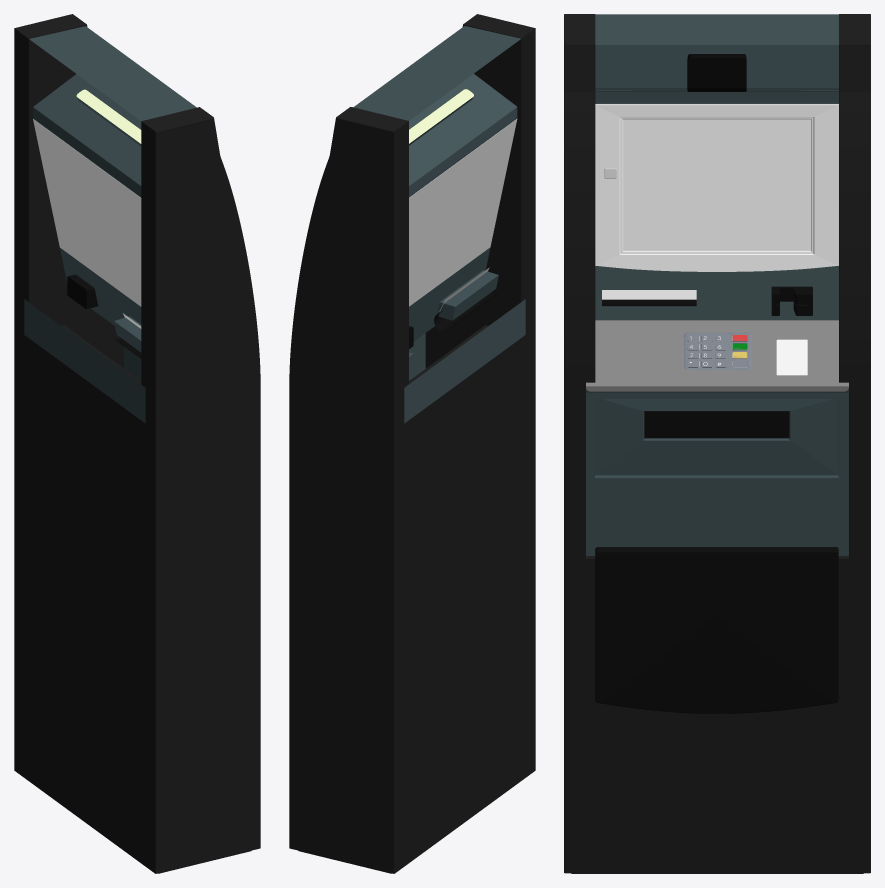
Rendered from ATM.glb.
3 renders of one model, left to right at view 1: azimuth 30°, elevation 25°; view 2: azimuth 150°, elevation 25°; view 3: azimuth 270°, elevation 25°, orthographic. The views are drawn at different scales.
Parts seen in each view (by area): view 1: display; view 2: display; view 3: display.
Boxes of the visible parts, <box> form: display: <box>14,14,260,873</box>; display: <box>289,14,535,873</box>; display: <box>564,14,870,873</box>.
Bounding box in the file's own units: 0.2346 × 1.51 × 0.5198.
Materials: 17 (3 with a texture image).
